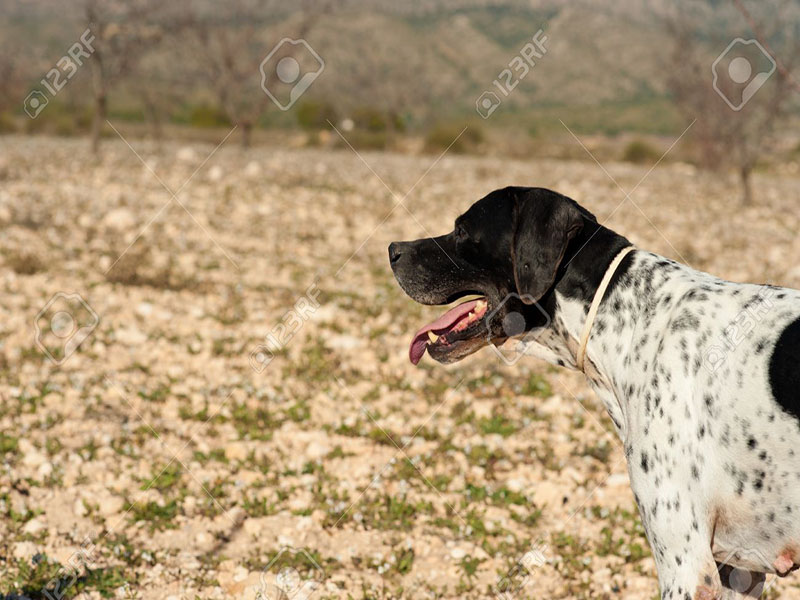cane da caccia: (393, 181, 798, 600)
